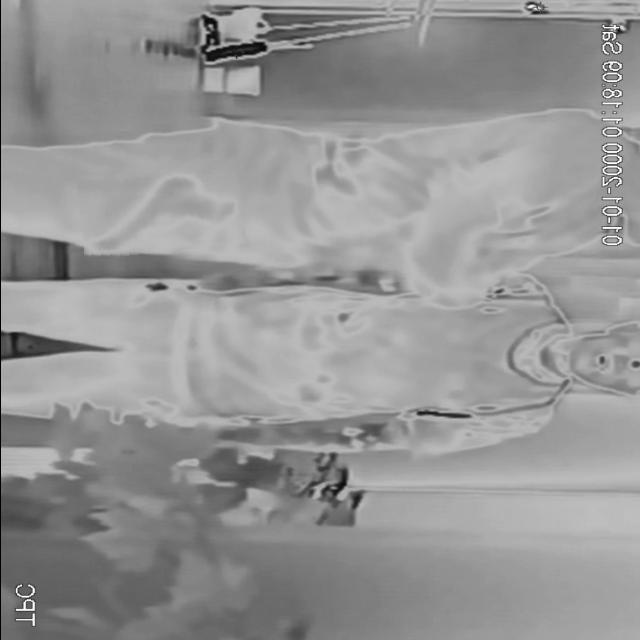Weapon: (77, 162, 243, 256)
